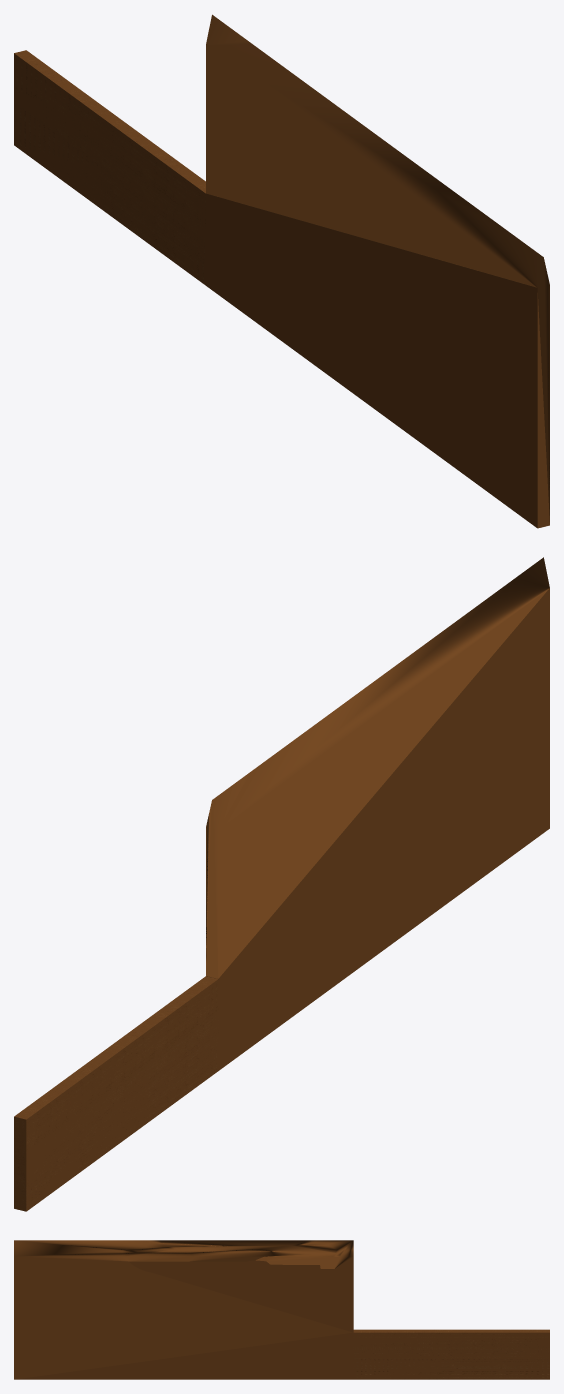
Rendered from model_align.obj.
3 renders of one model, top to bottom at view 1: azimuth 30°, elevation 25°; view 2: azimuth 150°, elevation 25°; view 3: azimuth 270°, elevation 25°, orthographic. The views are drawn at different scales.
Bounding box in the file's own units: 0.00271 × 0.0562 × 0.1976.
